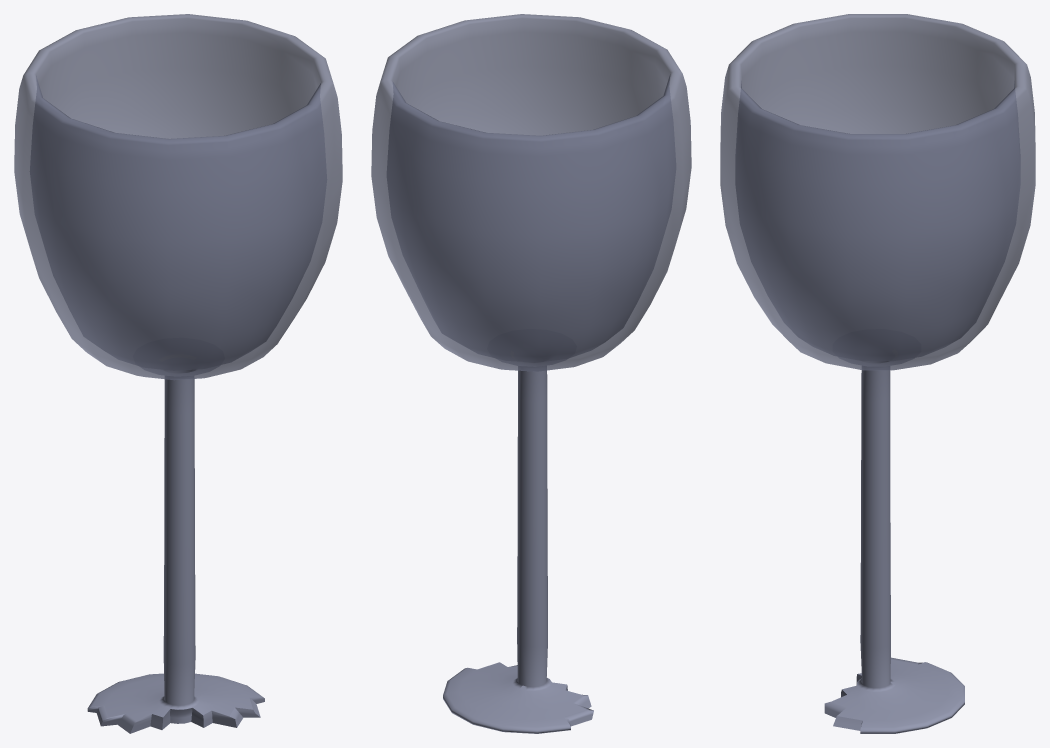
The model's file is wineGlassBrokenbase.fbx.
The picture shows the model from 3 angles, left to right: view 1: azimuth 30°, elevation 25°; view 2: azimuth 150°, elevation 25°; view 3: azimuth 270°, elevation 25°; orthographic projection. The views are drawn at different scales.
Visible parts, largest first — view 1: WineGlassShatteredbase; view 2: WineGlassShatteredbase; view 3: WineGlassShatteredbase.
Part boxes in pixels (x1,y1,x2,y2): WineGlassShatteredbase: [14, 14, 342, 733]; WineGlassShatteredbase: [371, 14, 691, 733]; WineGlassShatteredbase: [720, 14, 1035, 733].
Bounding box in the file's own units: 12.54 × 27.36 × 12.54.
